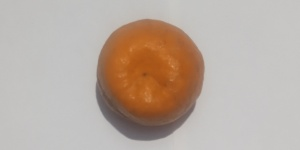BAD: (98, 22, 204, 130)
